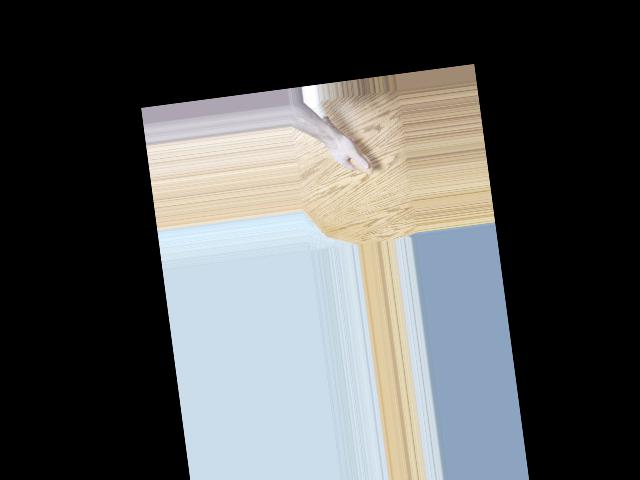sweet_potato: (322, 111, 374, 180)
